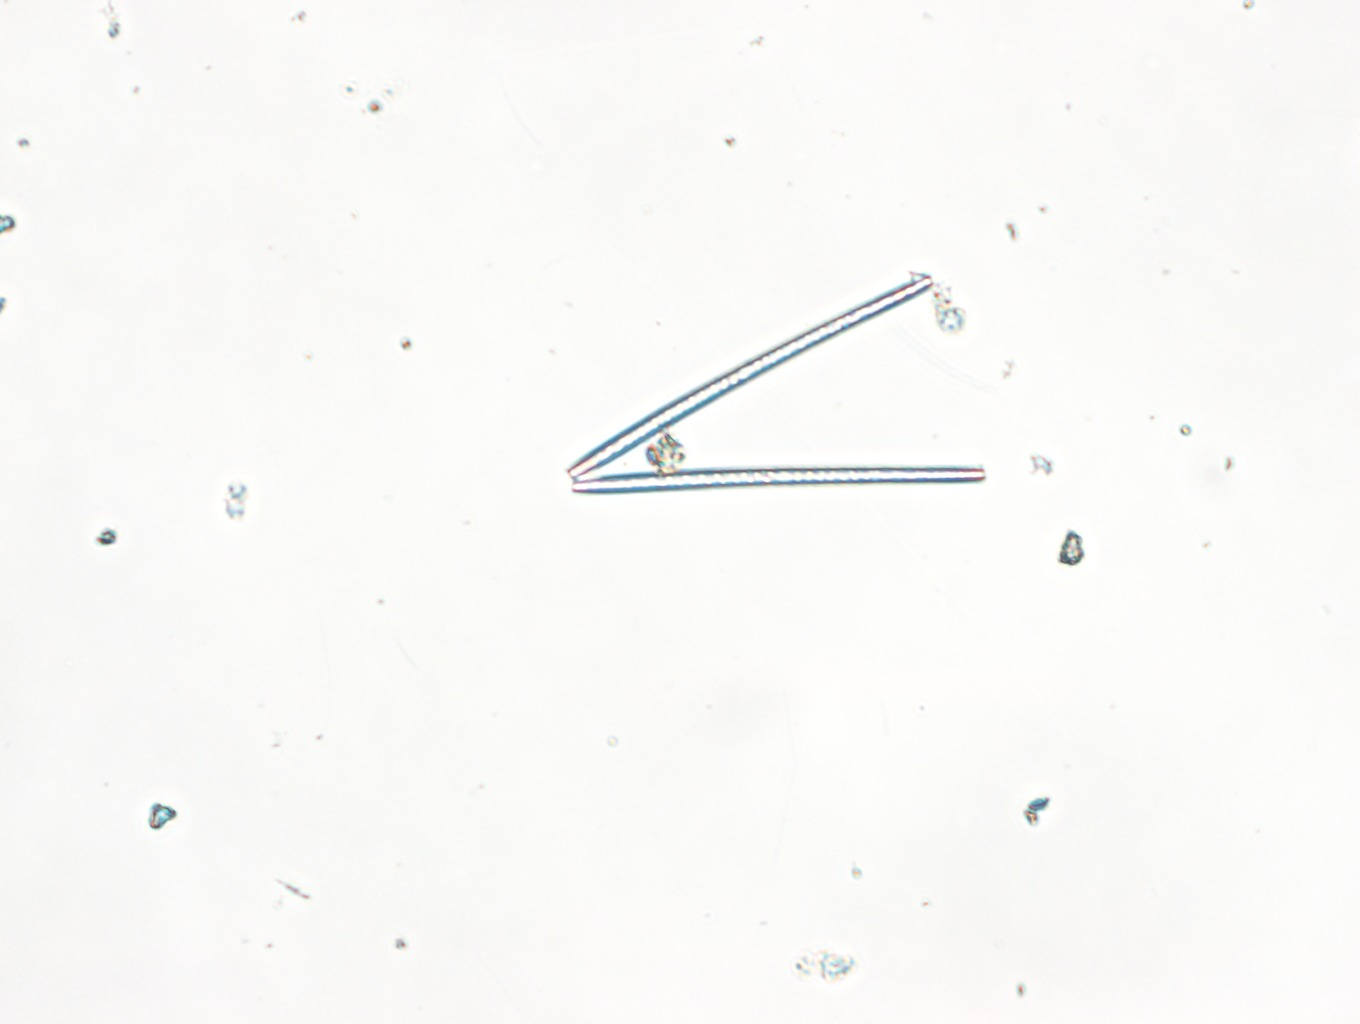thalassionema frauenfeldii: (566, 265, 992, 501)
